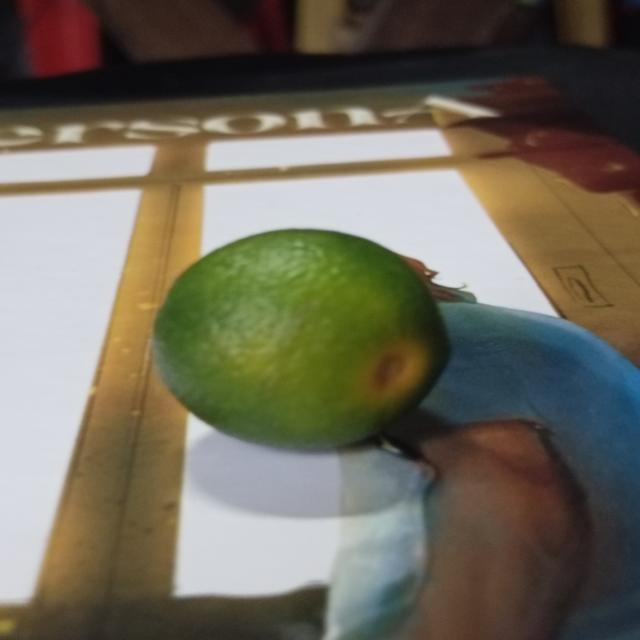heathy: (148, 224, 462, 454)
